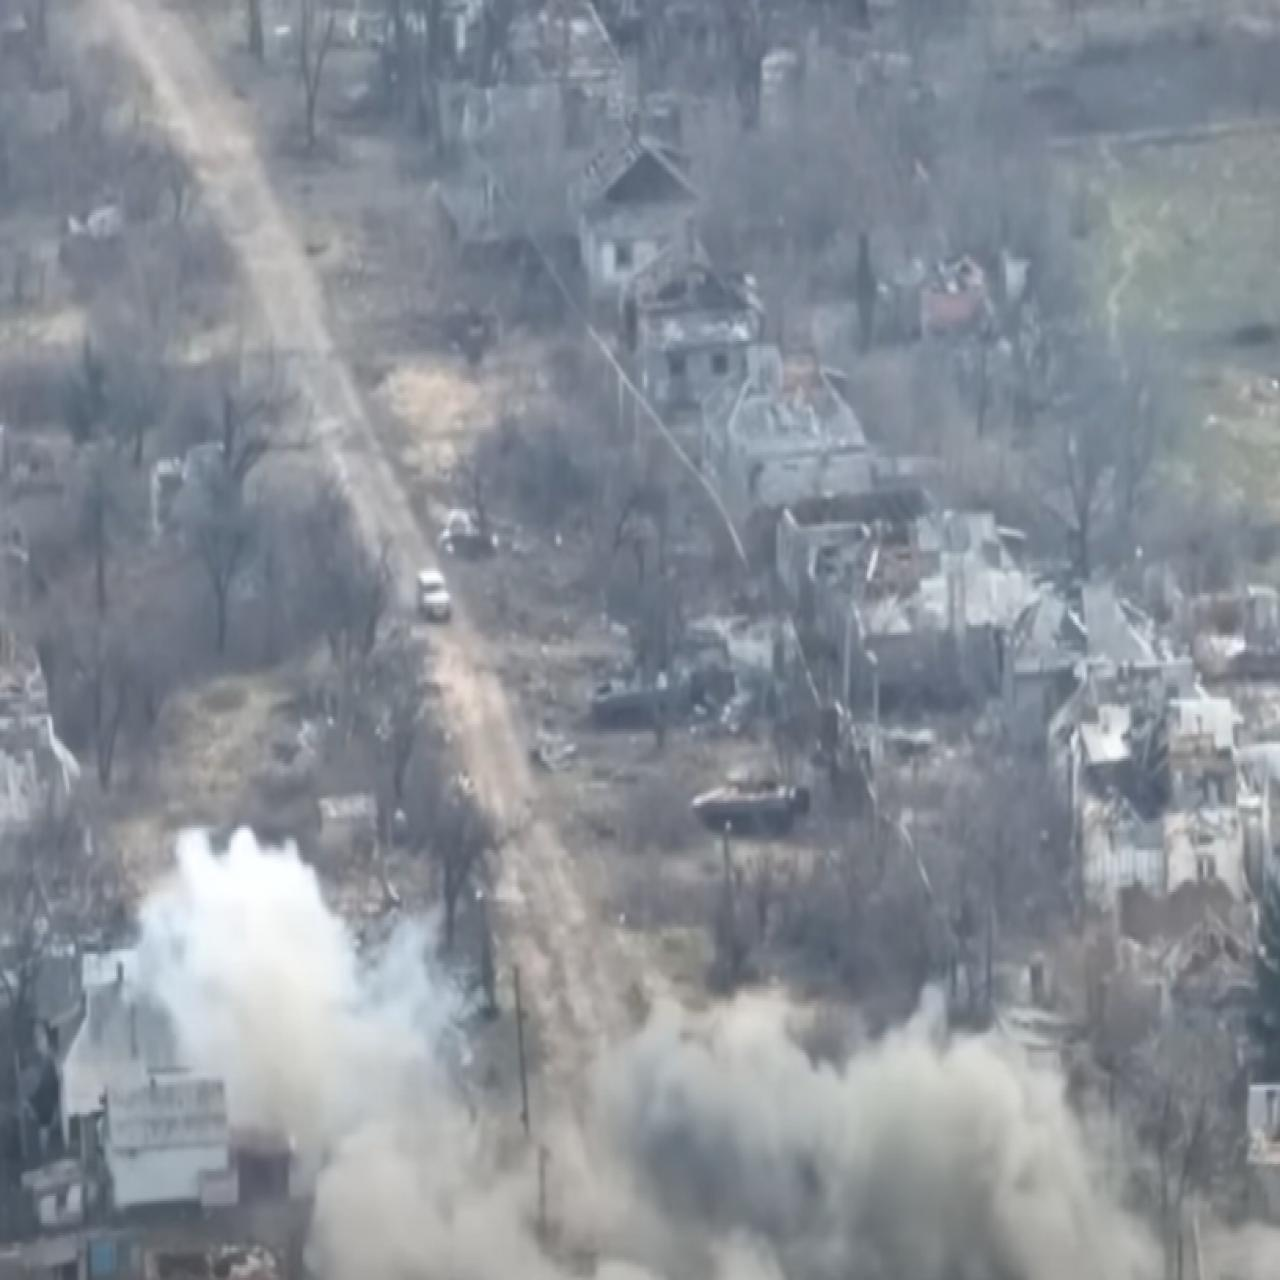MIL_Veh: (676, 761, 815, 842)
